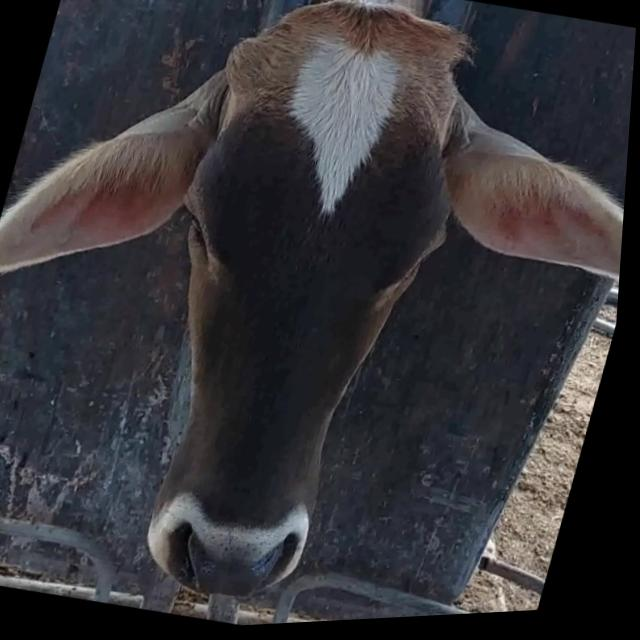cowFace: (83, 0, 505, 632)
